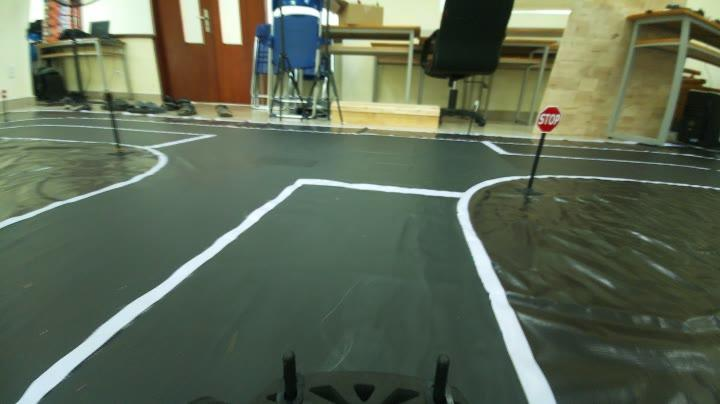stop: (533, 102, 566, 136)
